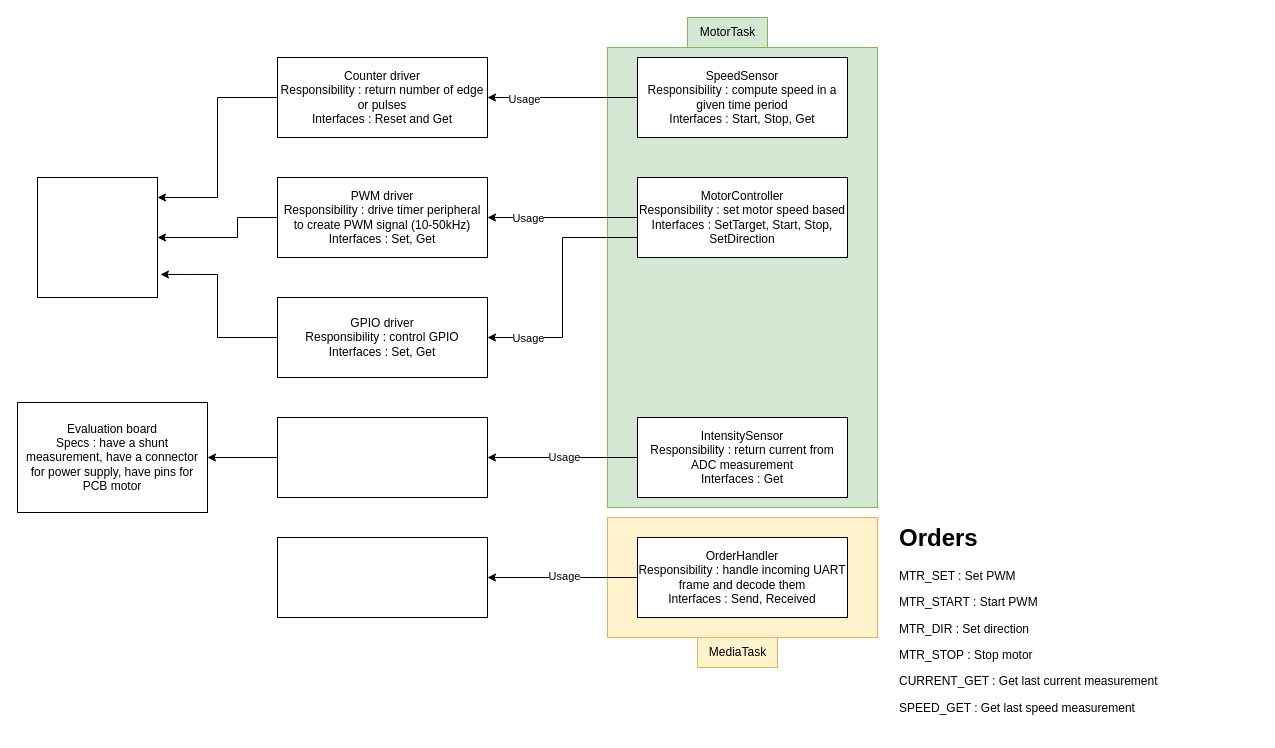
This 1275x748 diagram has some shape labels left out. The centre of each missing label's shape, as x and y in pixels:
"ADC driver Responsibility : measure signals Interfaces : Get" belongs at point 382,457.
"PCB MOTOR" belongs at point 97,237.
"UART driver Responsibility : receive/send Interfaces : Send, Receive" belongs at point 382,577.
